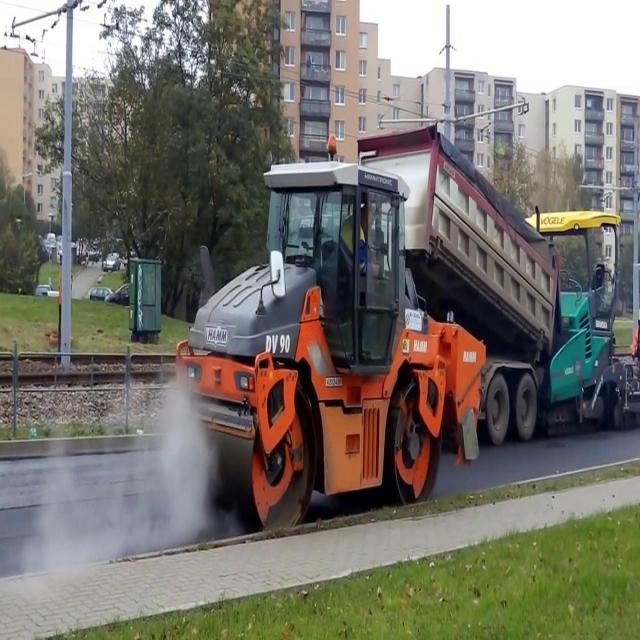Dump Truck: (357, 116, 557, 446)
Roller: (173, 127, 488, 536)
